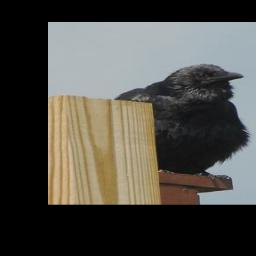Crow: (116, 63, 254, 179)
